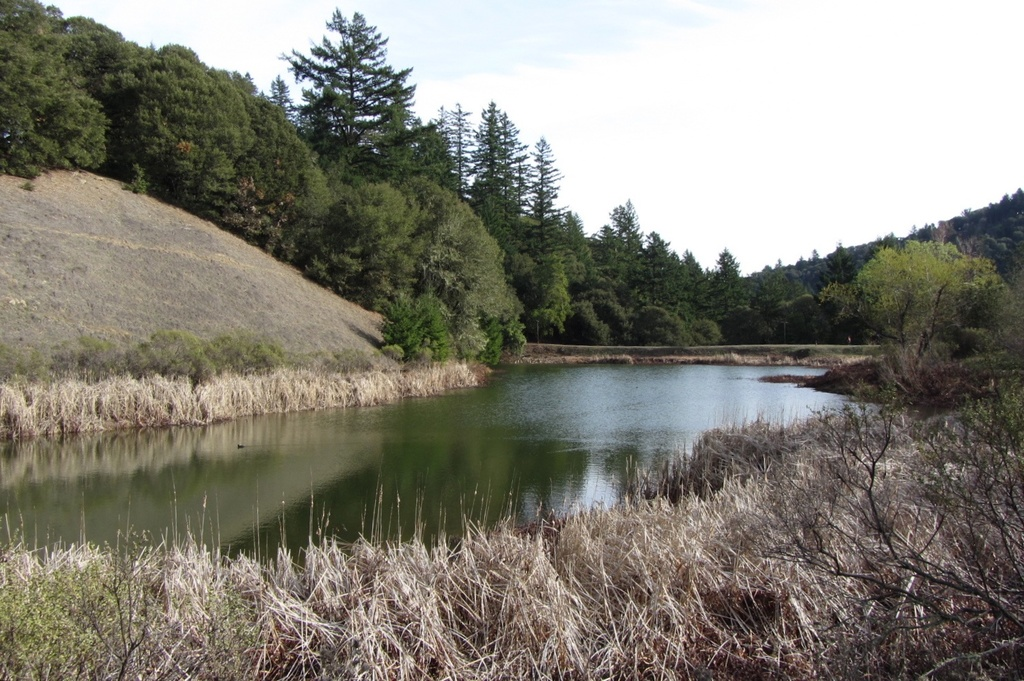Tree: (0, 0, 1022, 390)
